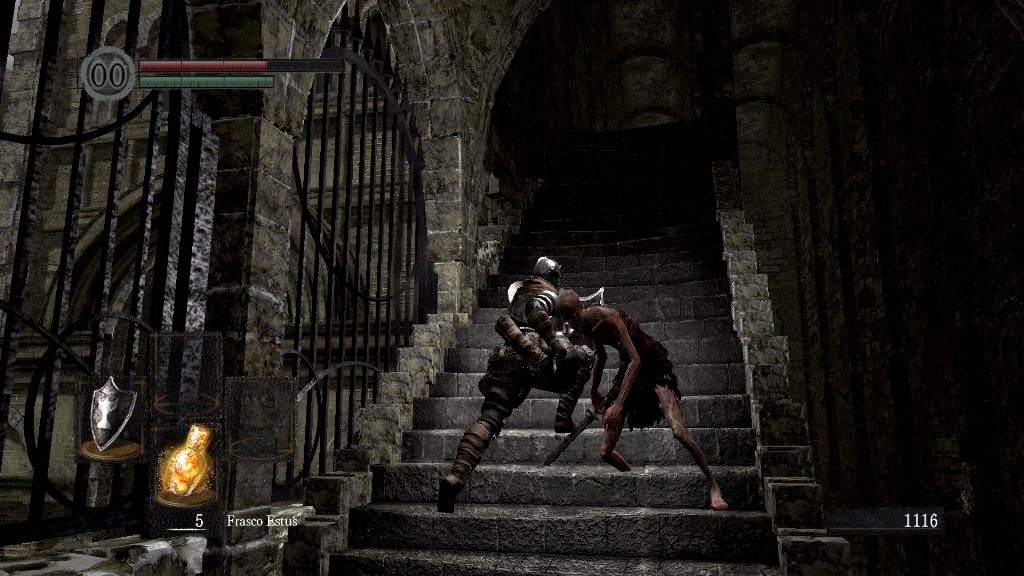health: (138, 58, 343, 71)
hollow: (554, 292, 731, 510)
humanity: (80, 45, 136, 102)
player: (439, 255, 608, 513)
souls: (825, 506, 945, 536)
stamina: (138, 74, 274, 88)
